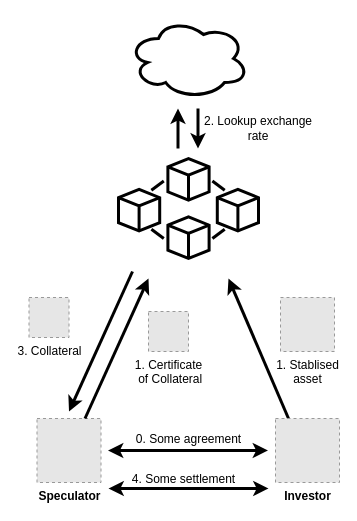
The diagram is 357 pixels wide and 521 high, and some of its shapes have lost their labels. Grey dashed boxes stand in for pictures. The box of each missing label's shape, as (x1, y1, x2, y2) in pixels:
Blockchain: (166, 215, 210, 260)
Oracle: (126, 16, 250, 100)
